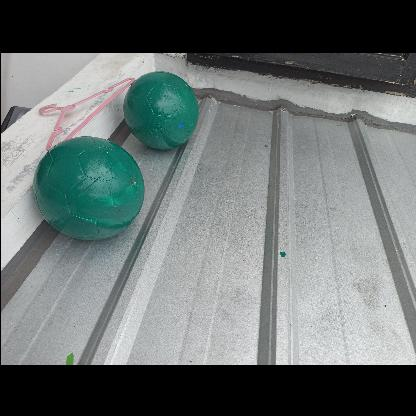green_ball: (34, 134, 142, 242), (122, 69, 200, 148)
